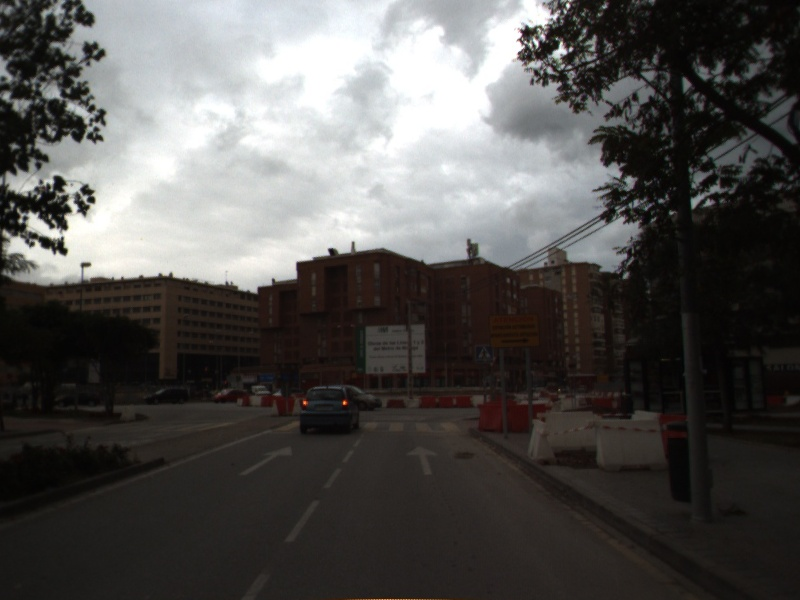STRAIGHT: (236, 444, 295, 477), (404, 443, 441, 477)
